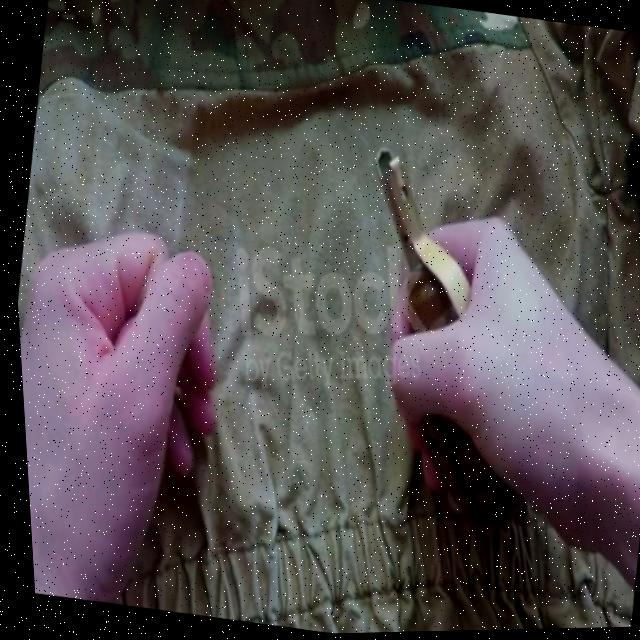grenade: (314, 117, 584, 544)
